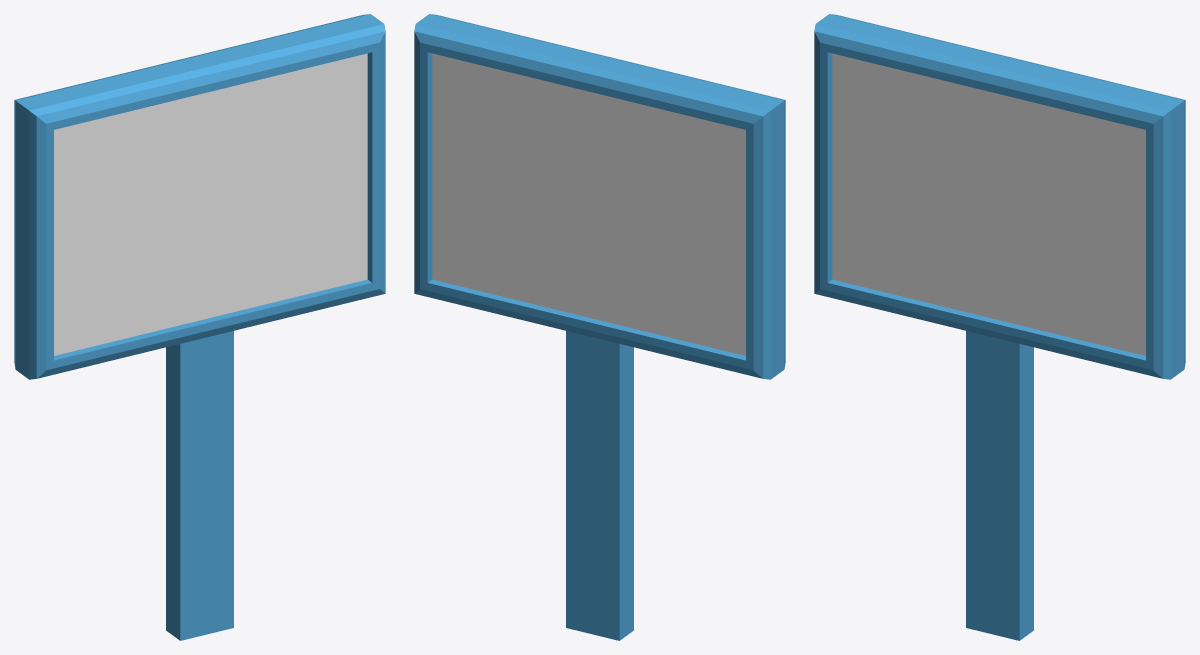
The model's file is tabela (1).fbx.
3 views of the same model, side by side, from view 1: azimuth 30°, elevation 25°; view 2: azimuth 150°, elevation 25°; view 3: azimuth 330°, elevation 25° (orthographic).
Visible parts, largest first — view 1: tabela, direk; view 2: tabela, direk; view 3: tabela, direk.
Boxes of the visible parts, x1,y1,x2,y2 form: tabela: (14,14,385,379); direk: (166,331,233,640); tabela: (414,14,785,379); direk: (566,331,633,640); tabela: (814,14,1185,379); direk: (966,331,1033,640).
Size of the model in its own units: 351 by 536 by 44.8.
